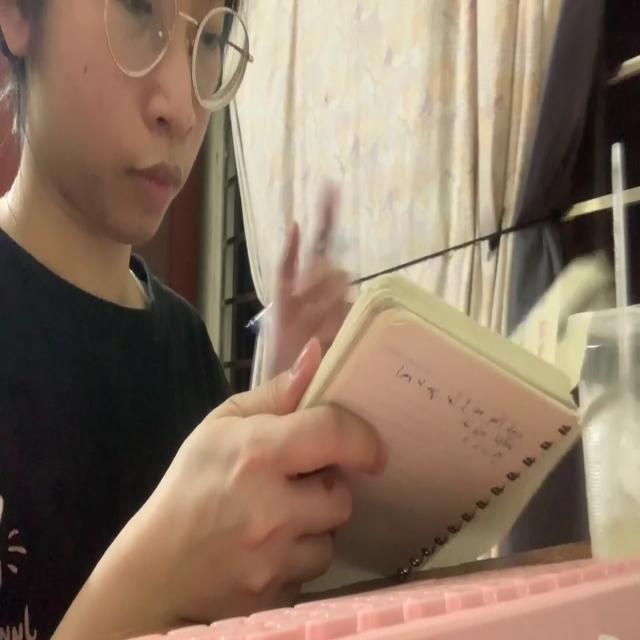book: (304, 255, 606, 590)
student: (0, 0, 386, 640)
